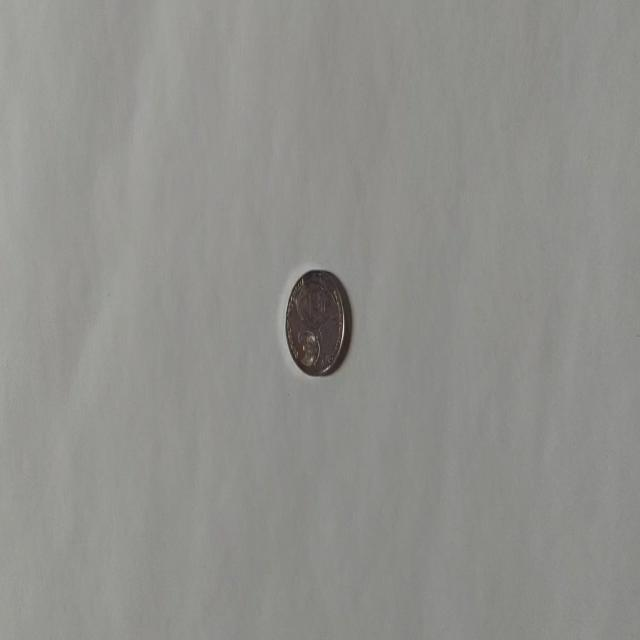dua ratus rupiah: (284, 267, 346, 377)
